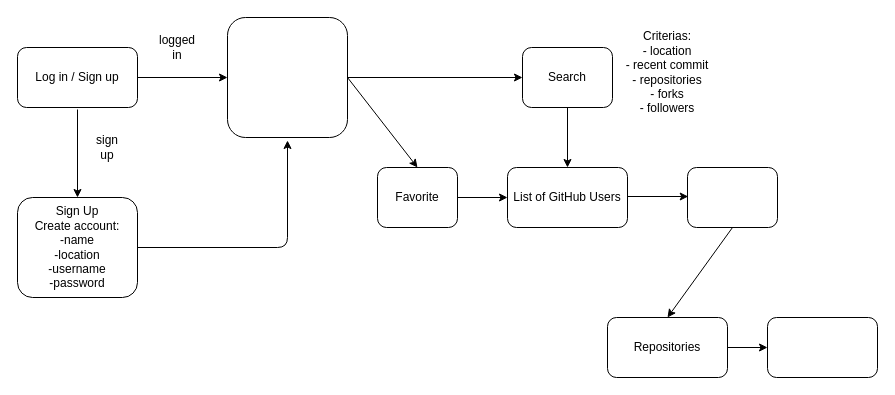
Image size: 895x395. Some labels were removed from this diagram. The centre of each missing label's shape, as x and y in pixels:
"GitHub page" belongs at (x=822, y=347).
"GitHubUser" belongs at (x=732, y=197).
"Main Page - Search - Favorite" belongs at (x=287, y=77).
